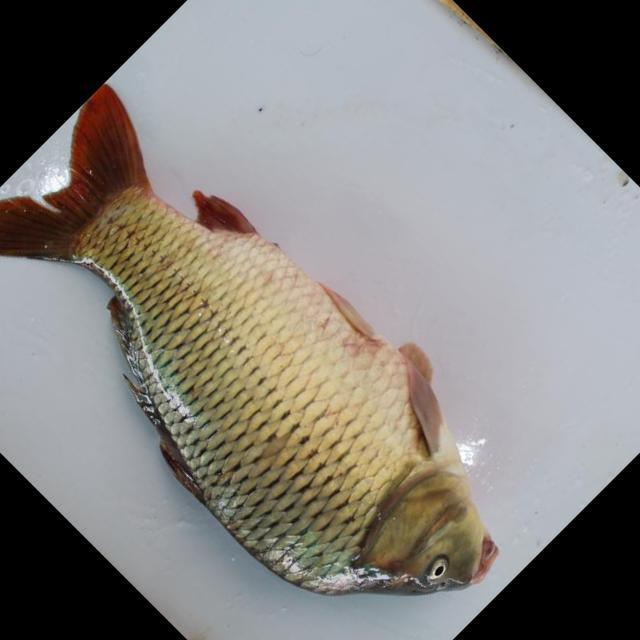CommonCarp: (5, 83, 501, 602)
